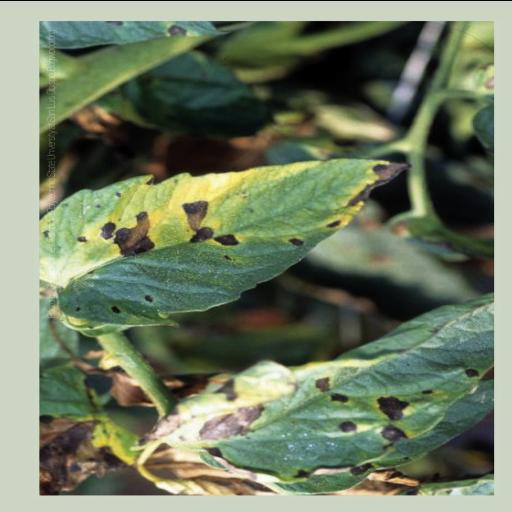Early Blight: (148, 294, 492, 481), (40, 156, 412, 326)
